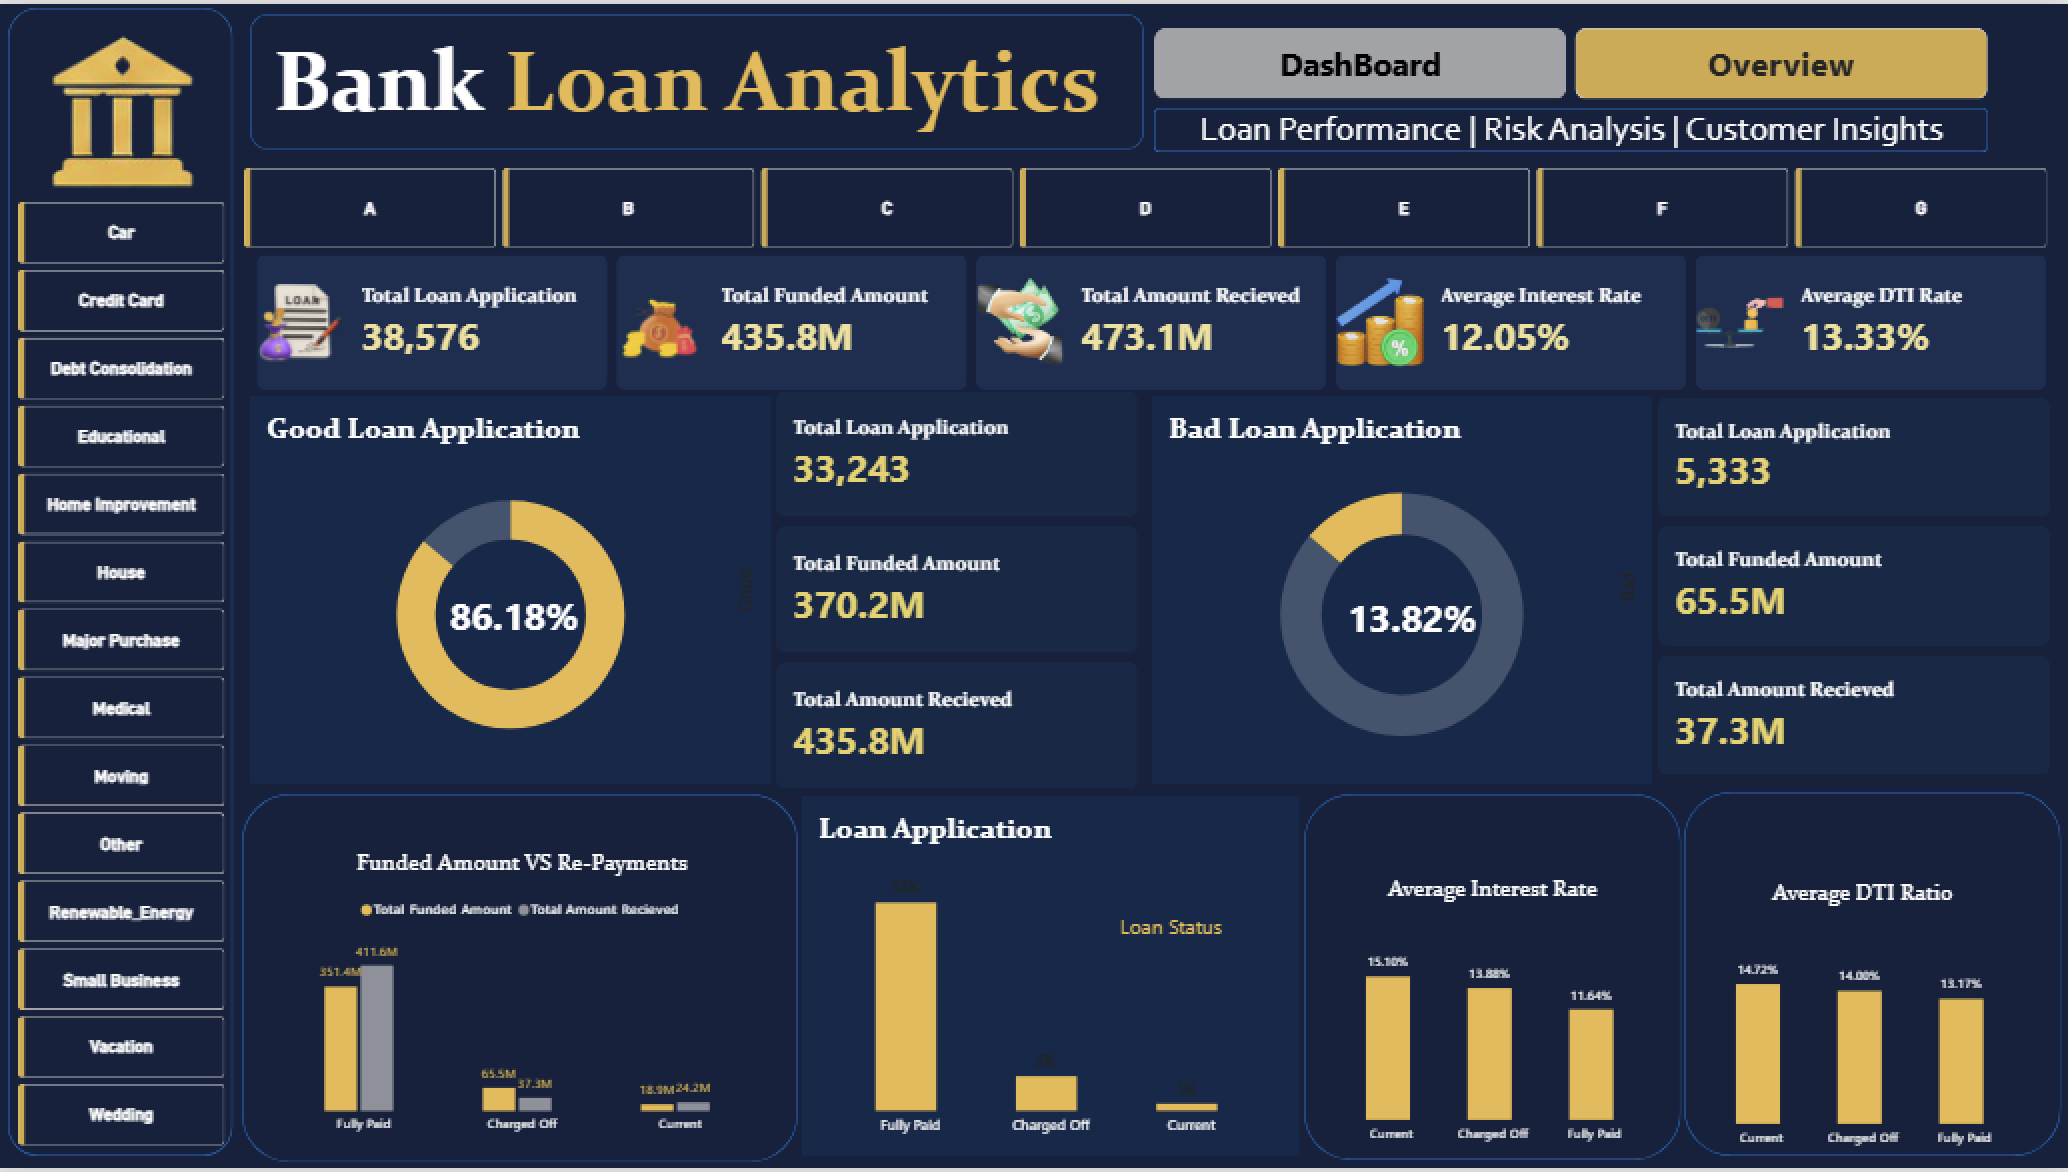

The dashboard page shown, as its layout file describes it:
{"tool":"powerbi","page":{"name":"DashBoard","canvas":[1920,1080],"ordinal":0},"visuals":[{"type":"image","box":[0,0,263.9,208.6],"z":0},{"type":"textbox","box":[253.6,22.5,784.8,104.2],"z":1000},{"type":"textbox","box":[1114.1,96.6,731.6,42.1],"z":2000},{"type":"shape","box":[232,10,830,126],"z":3000},{"type":"shape","box":[8.2,4.1,208.6,1065.7],"z":4000},{"type":"cardVisual","fields":{"Data":["financial_loan.Total Loan Application","financial_loan.Total Funded Amount","financial_loan.Total Amount Recieved","financial_loan.Average Interest Rate","financial_loan.Average DTI Rate"]},"box":[232,226,1676,138],"z":5000},{"type":"donutChart","title":"Good Loan Application","fields":{"Category":["financial_loan.Good_vs_Bad_Loan"],"Y":["financial_loan.Total Loan Application"]},"box":[232,364,484,360],"z":6000},{"type":"cardVisual","fields":{"Data":["financial_loan.Good Loan %"]},"box":[396,520,172.7,96.6],"z":7000},{"type":"donutChart","title":"Bad Loan Application","fields":{"Category":["financial_loan.Good_vs_Bad_Loan"],"Y":["financial_loan.Total Loan Application"]},"box":[1070,364,464,360],"z":8000},{"type":"cardVisual","fields":{"Data":["financial_loan.Bad Loan %"]},"box":[1230,514,191.3,109.6],"z":9000},{"type":"cardVisual","fields":{"Data":["financial_loan.Total Loan Application","financial_loan.Total Funded Amount","financial_loan.Total Amount Recieved"],"Rows":["financial_loan.Good_vs_Bad_Loan"]},"box":[682,352,380,382],"z":10000},{"type":"cardVisual","fields":{"Data":["financial_loan.Total Loan Application","financial_loan.Total Funded Amount","financial_loan.Total Amount Recieved"],"Rows":["financial_loan.Good_vs_Bad_Loan"]},"box":[1500,358,408,366],"z":11000},{"type":"clusteredColumnChart","title":"Funded Amount VS Re-Payments","fields":{"Category":["financial_loan.LOAN_STATUS"],"Y":["financial_loan.Total Funded Amount","financial_loan.Total Amount Recieved"]},"box":[226.9,770.2,516.8,298.2],"z":12000},{"type":"shape","box":[224,734,516,342],"z":13000},{"type":"clusteredColumnChart","title":"Loan Application","fields":{"Category":["financial_loan.LOAN_STATUS"],"Y":["financial_loan.Total Loan Application"]},"box":[744.6,735.3,462.4,334.2],"z":14000},{"type":"textbox","box":[1039.8,843,157.8,35.3],"z":15000},{"type":"clusteredColumnChart","title":"Average Interest Rate ","fields":{"Category":["financial_loan.LOAN_STATUS"],"Y":["financial_loan.Average Interest Rate"]},"box":[1214.4,794.7,343.5,282.2],"z":16000},{"type":"clusteredColumnChart","title":"Average DTI Ratio ","fields":{"Category":["financial_loan.LOAN_STATUS"],"Y":["financial_loan.Average DTI Rate"]},"box":[1557.9,798.5,343.5,282.2],"z":17000},{"type":"shape","box":[1210,734,350,340],"z":18000},{"type":"shape","box":[1564,732,350,338],"z":19000},{"type":"advancedSlicerVisual","fields":{"Values":["financial_loan.PURPOSE"]},"box":[16,184,192,880],"z":20000},{"type":"advancedSlicerVisual","fields":{"Values":["financial_loan.GRADE"]},"box":[226,152,1676,74],"z":21000},{"type":"shape","box":[1071.4,96.6,774.3,40.9],"z":22000},{"type":"pageNavigator","box":[1071.4,22.3,774.3,66.8],"z":23000}]}

Visuals, with their boxes in screenshot pixels (x1, y1, x2, y2), scaled from the page's 1920x1080 canvas onto the 2068x1172 screenshot:
image: <box>0,0,284,226</box>
textbox: <box>273,24,1118,137</box>
textbox: <box>1200,105,1988,151</box>
shape: <box>250,11,1144,148</box>
shape: <box>9,4,234,1161</box>
cardVisual - financial_loan.Total Loan Application x financial_loan.Total Funded Amount: <box>250,245,2055,395</box>
"Good Loan Application" donutChart: <box>250,395,771,786</box>
cardVisual - financial_loan.Good Loan %: <box>427,564,613,669</box>
"Bad Loan Application" donutChart: <box>1152,395,1652,786</box>
cardVisual - financial_loan.Bad Loan %: <box>1325,558,1531,677</box>
cardVisual - financial_loan.Total Loan Application x financial_loan.Total Funded Amount: <box>735,382,1144,797</box>
cardVisual - financial_loan.Total Loan Application x financial_loan.Total Funded Amount: <box>1616,388,2055,786</box>
"Funded Amount VS Re-Payments" clusteredColumnChart: <box>244,836,801,1159</box>
shape: <box>241,797,797,1168</box>
"Loan Application" clusteredColumnChart: <box>802,798,1300,1161</box>
textbox: <box>1120,915,1290,953</box>
"Average Interest Rate " clusteredColumnChart: <box>1308,862,1678,1169</box>
"Average DTI Ratio " clusteredColumnChart: <box>1678,867,2048,1171</box>
shape: <box>1303,797,1680,1165</box>
shape: <box>1685,794,2062,1161</box>
advancedSlicerVisual - financial_loan.PURPOSE: <box>17,200,224,1155</box>
advancedSlicerVisual - financial_loan.GRADE: <box>243,165,2049,245</box>
shape: <box>1154,105,1988,149</box>
pageNavigator: <box>1154,24,1988,97</box>
